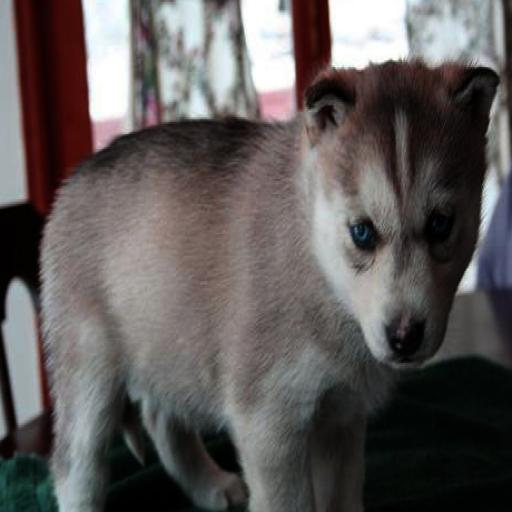dog_face: (301, 49, 488, 364)
